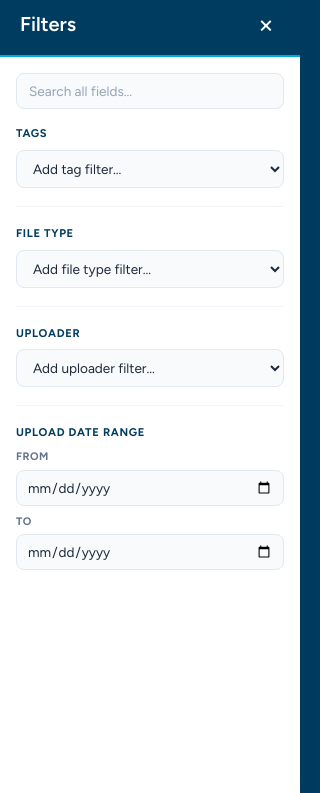
Scenario: FilterPanel — clear all › hides the active-filters section after clearing all
Select "craftwork" in the dropdown showing "Add tag filter…" below "Tags" at (150, 169), box [16,150,284,188]
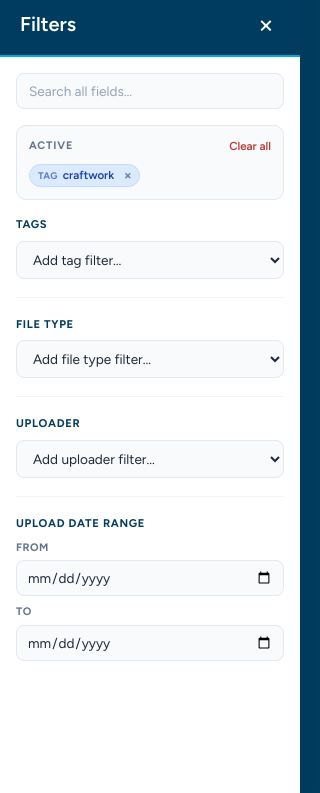
Now the text "Active" is shown, box [29,138,73,154]
Click the button "Clear all" at (250, 146), box [229,139,271,153]
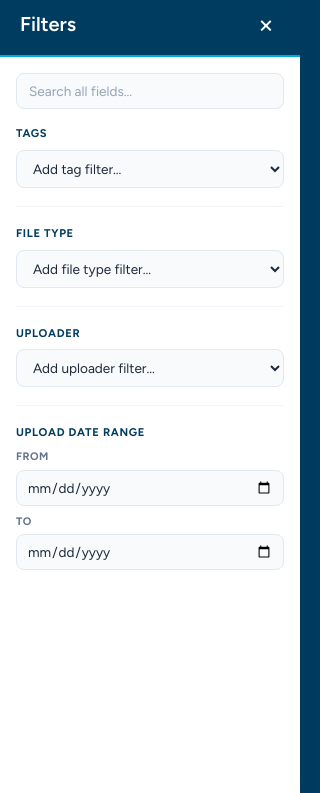
Now the text "Active" is gone
